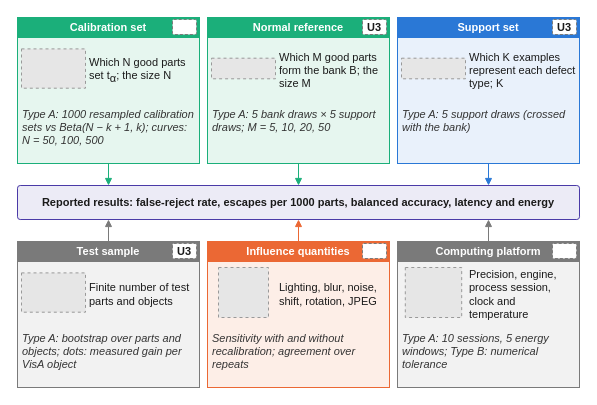
The diagram is 597 pixels wide and 405 high, and some of its shapes have lost their labels. Grey dashed boxes stand in for pictures. The centre of each missing label's shape, as x and y in pixels:
"U1" belongs at point (184, 26).
"U4" belongs at point (374, 250).
"U6" belongs at point (564, 250).
